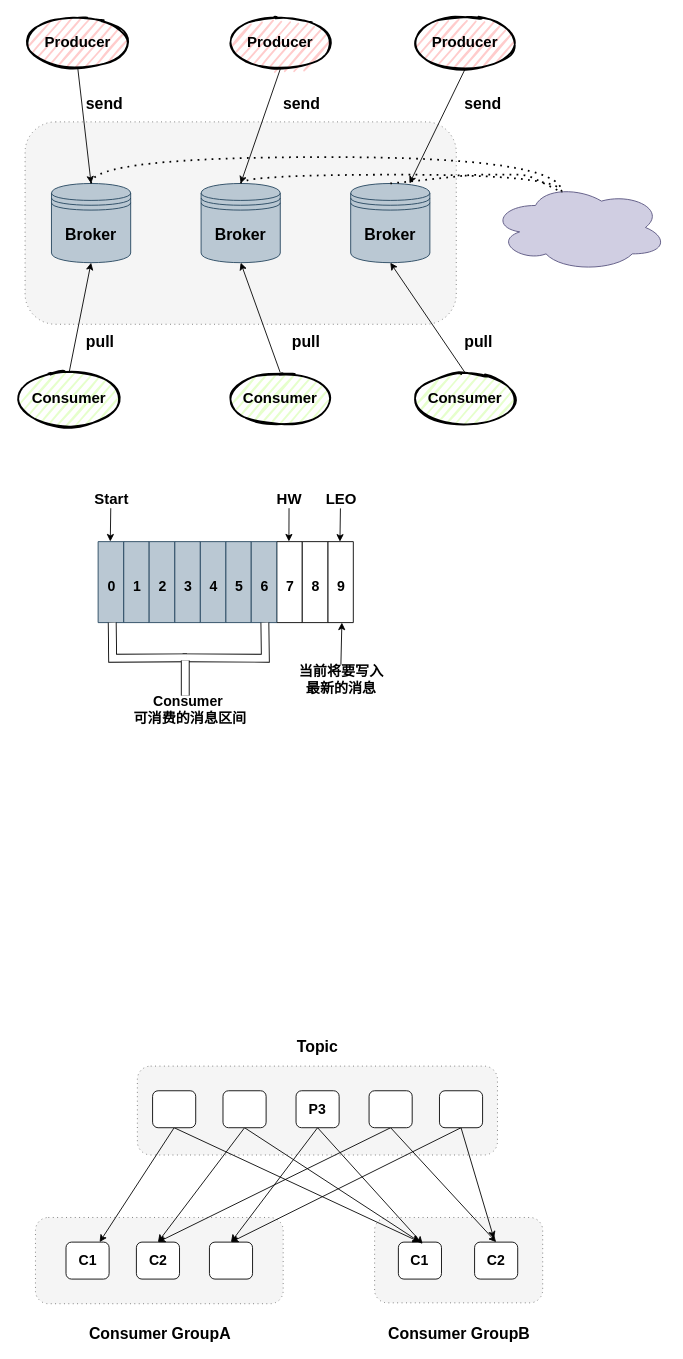
This 683x1359 diagram has some shape labels left out. Here are the shapes that lost their labels. From the top down, the centre of each, then its label:
the point at 579,227: ZooKeeper
the point at 174,1109: P1
the point at 244,1109: P2
the point at 390,1109: P4
the point at 461,1109: P5
the point at 231,1260: C3
